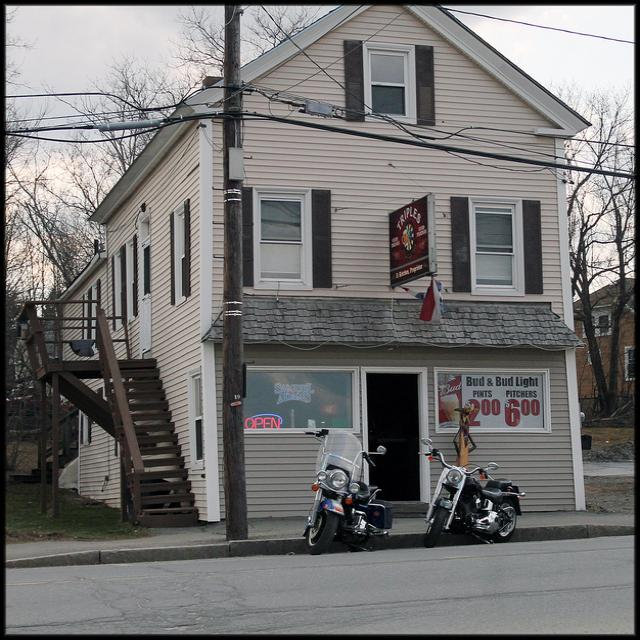motor: (301, 426, 395, 556), (420, 437, 525, 550)
